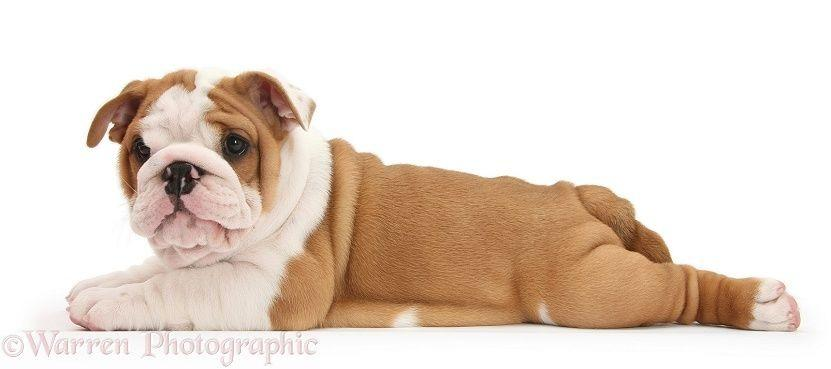puppy-dog: (64, 66, 802, 335)
